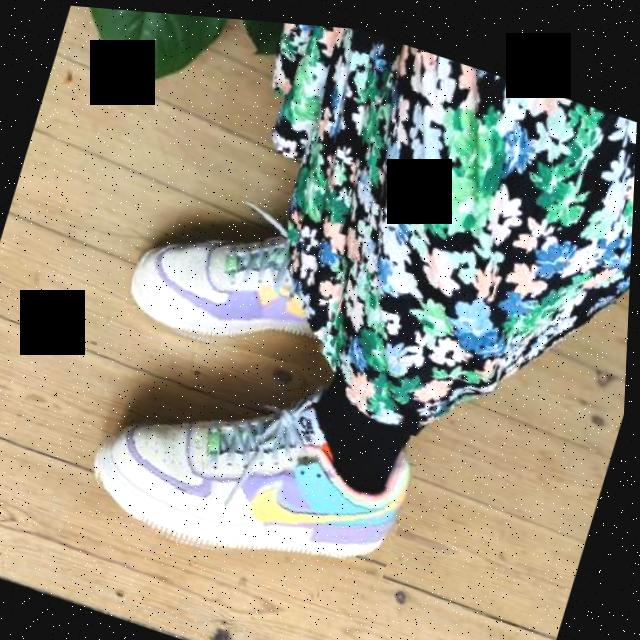shoe: (83, 336, 430, 604), (122, 190, 359, 379)
